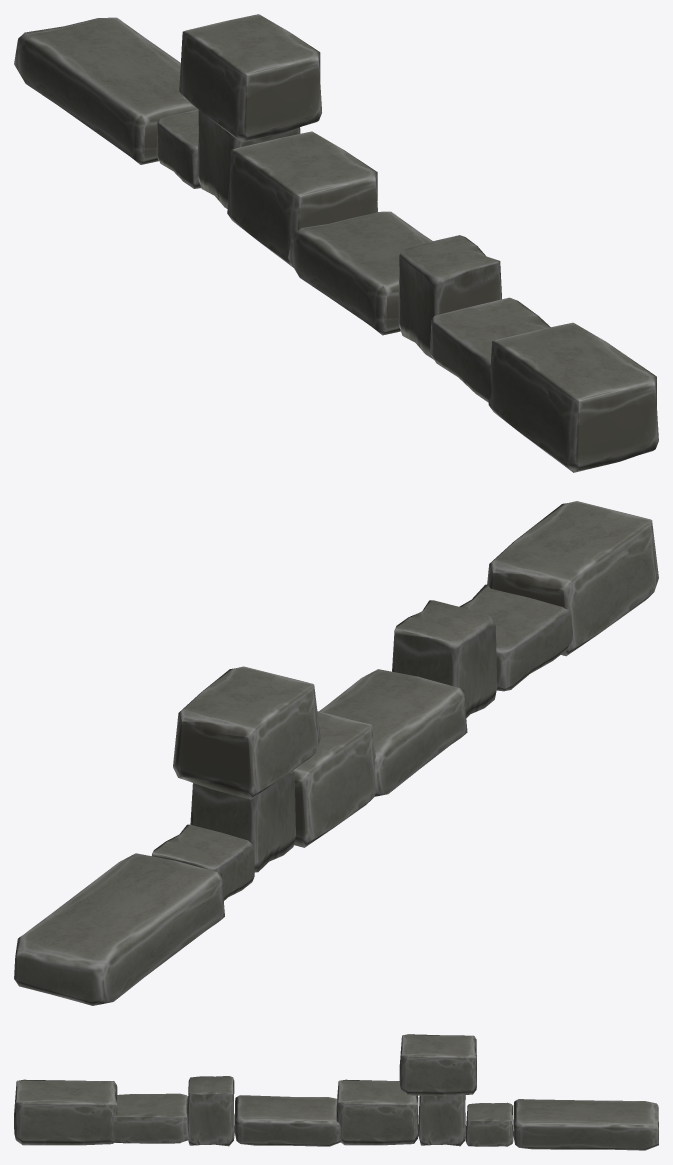
Rendered from Railing_B.fbx.
3 renders of one model, top to bottom at view 1: azimuth 30°, elevation 25°; view 2: azimuth 150°, elevation 25°; view 3: azimuth 270°, elevation 25°, orthographic. The views are drawn at different scales.
Parts seen in each view (by area): view 1: Railing_B; view 2: Railing_B; view 3: Railing_B.
Boxes of the visible parts, x1,y1,x2,y2 form: Railing_B: (14,14,658,472); Railing_B: (14,501,658,1005); Railing_B: (14,1034,658,1150).
Bounding box in the file's own units: 222 × 360 × 2206.
